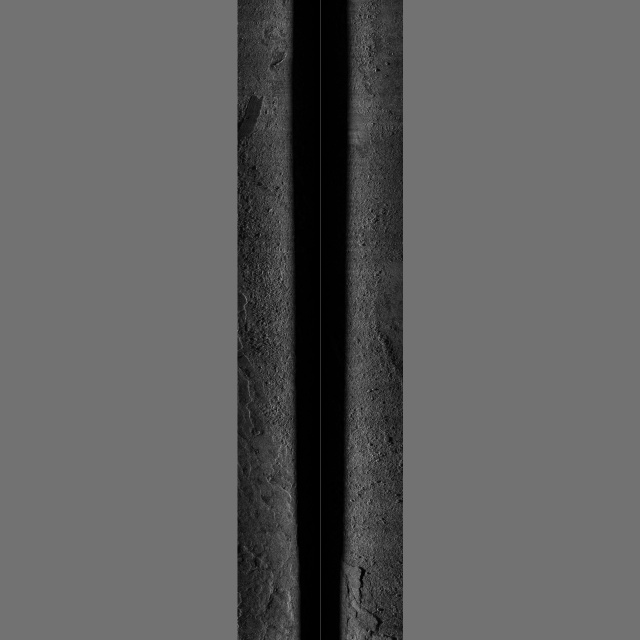Shipwreck: (237, 58, 285, 142)
